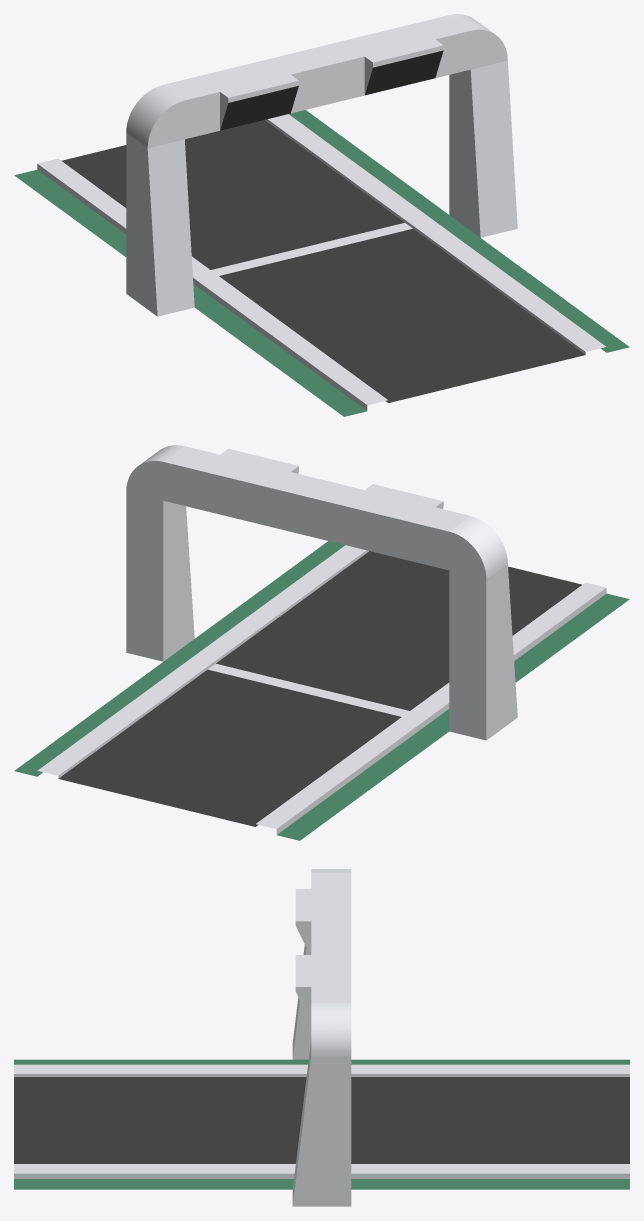
The model's file is roadStart.glb.
The picture shows the model from 3 angles, top to bottom: view 1: azimuth 30°, elevation 25°; view 2: azimuth 150°, elevation 25°; view 3: azimuth 270°, elevation 25°; orthographic projection. The views are drawn at different scales.
Visible parts, largest first — view 1: roadStart(Clone); view 2: roadStart(Clone); view 3: roadStart(Clone).
Part boxes in pixels (<box>): roadStart(Clone): <box>14,14,629,416</box>; roadStart(Clone): <box>14,445,629,840</box>; roadStart(Clone): <box>14,869,629,1206</box>.
Bounding box in the file's own units: 1.26 × 0.6682 × 2.
